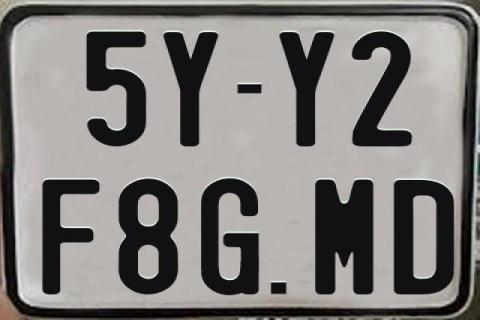0: (86, 29, 150, 147), (117, 178, 179, 298), (350, 29, 410, 147)
D: (391, 178, 453, 292)
F: (42, 178, 100, 298)
G: (200, 179, 262, 297)
M: (312, 177, 372, 293)
Y: (161, 30, 221, 148), (278, 32, 336, 150)
